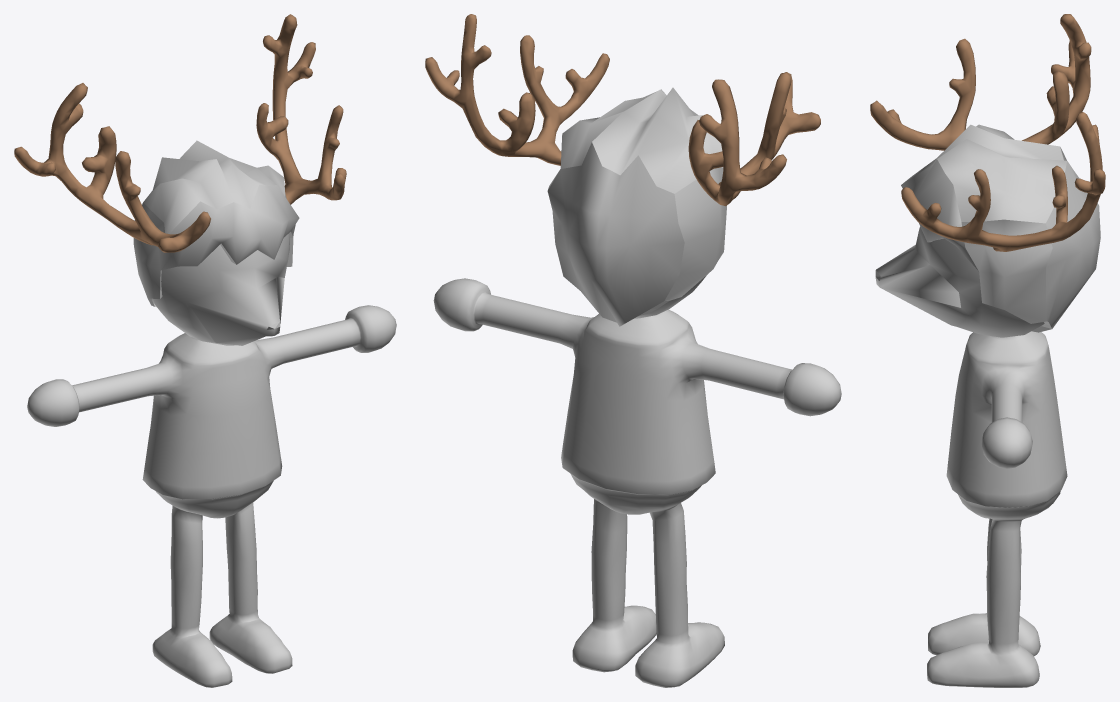
File: mooseywhole.obj
The picture shows the model from 3 angles, left to right: view 1: azimuth 30°, elevation 25°; view 2: azimuth 150°, elevation 25°; view 3: azimuth 270°, elevation 25°; orthographic projection. The views are drawn at different scales.
Parts seen in each view (by area): view 1: Mii.002; view 2: Mii.002; view 3: Mii.002.
Boxes of the visible parts, x1=… form: Mii.002: x1=14, y1=14, x2=396, y2=687; Mii.002: x1=425, y1=14, x2=841, y2=687; Mii.002: x1=870, y1=14, x2=1105, y2=687.
Size of the model in its own units: 225 by 347 by 121.
